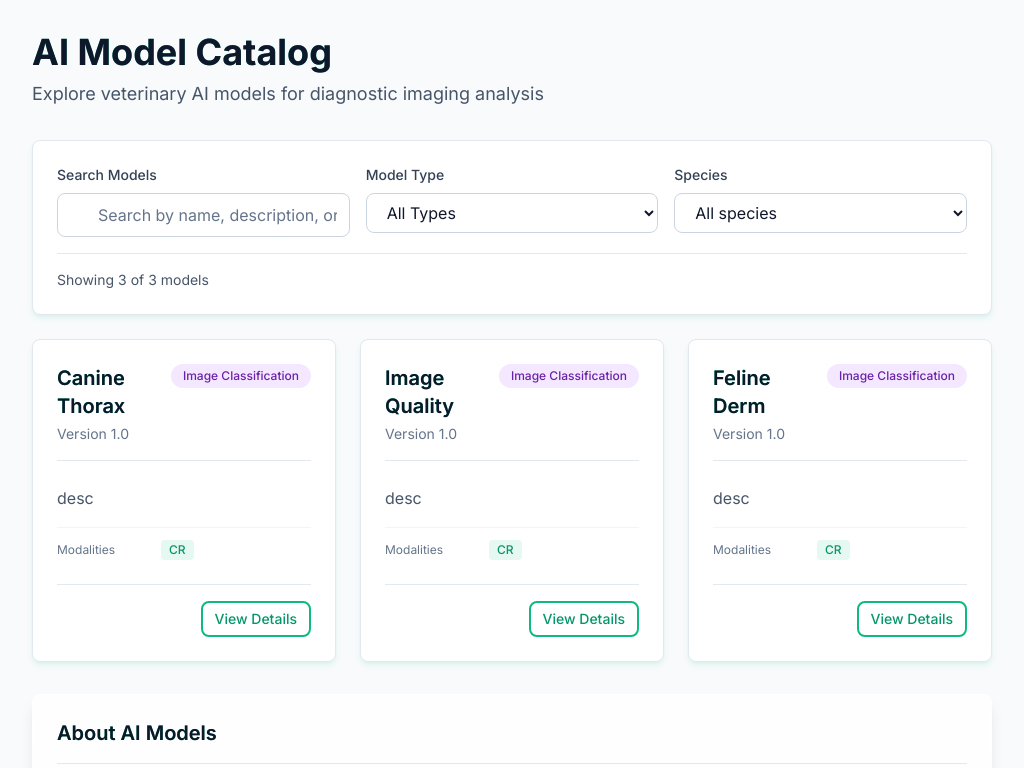
Scenario: ModelsPage species filter › filters by species (agnostic models always match)
Expected: the heading "Canine Thorax" is shown, x1=57 y1=364 x2=171 y2=420
# Select "Feline" in the species dropdown
Select "Feline" in the dropdown labelled "Species": (821, 213) x1=674 y1=193 x2=967 y2=233
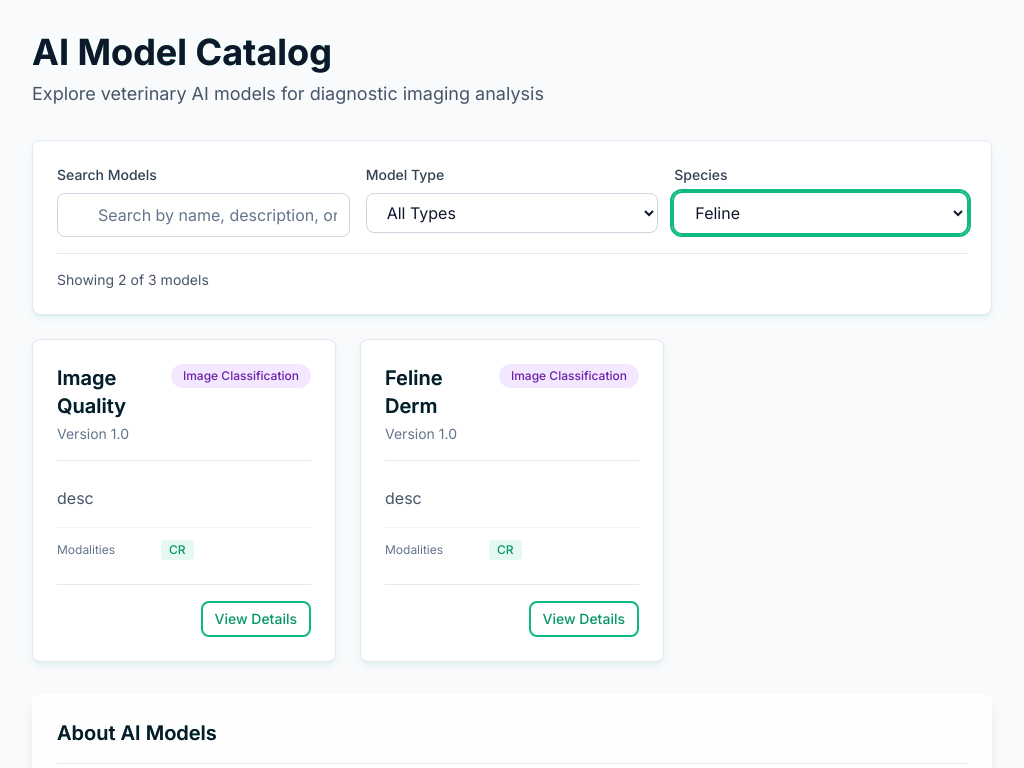
Expected: the heading "Feline Derm" is shown, x1=385 y1=364 x2=499 y2=420
Result: the heading "Canine Thorax" is gone
